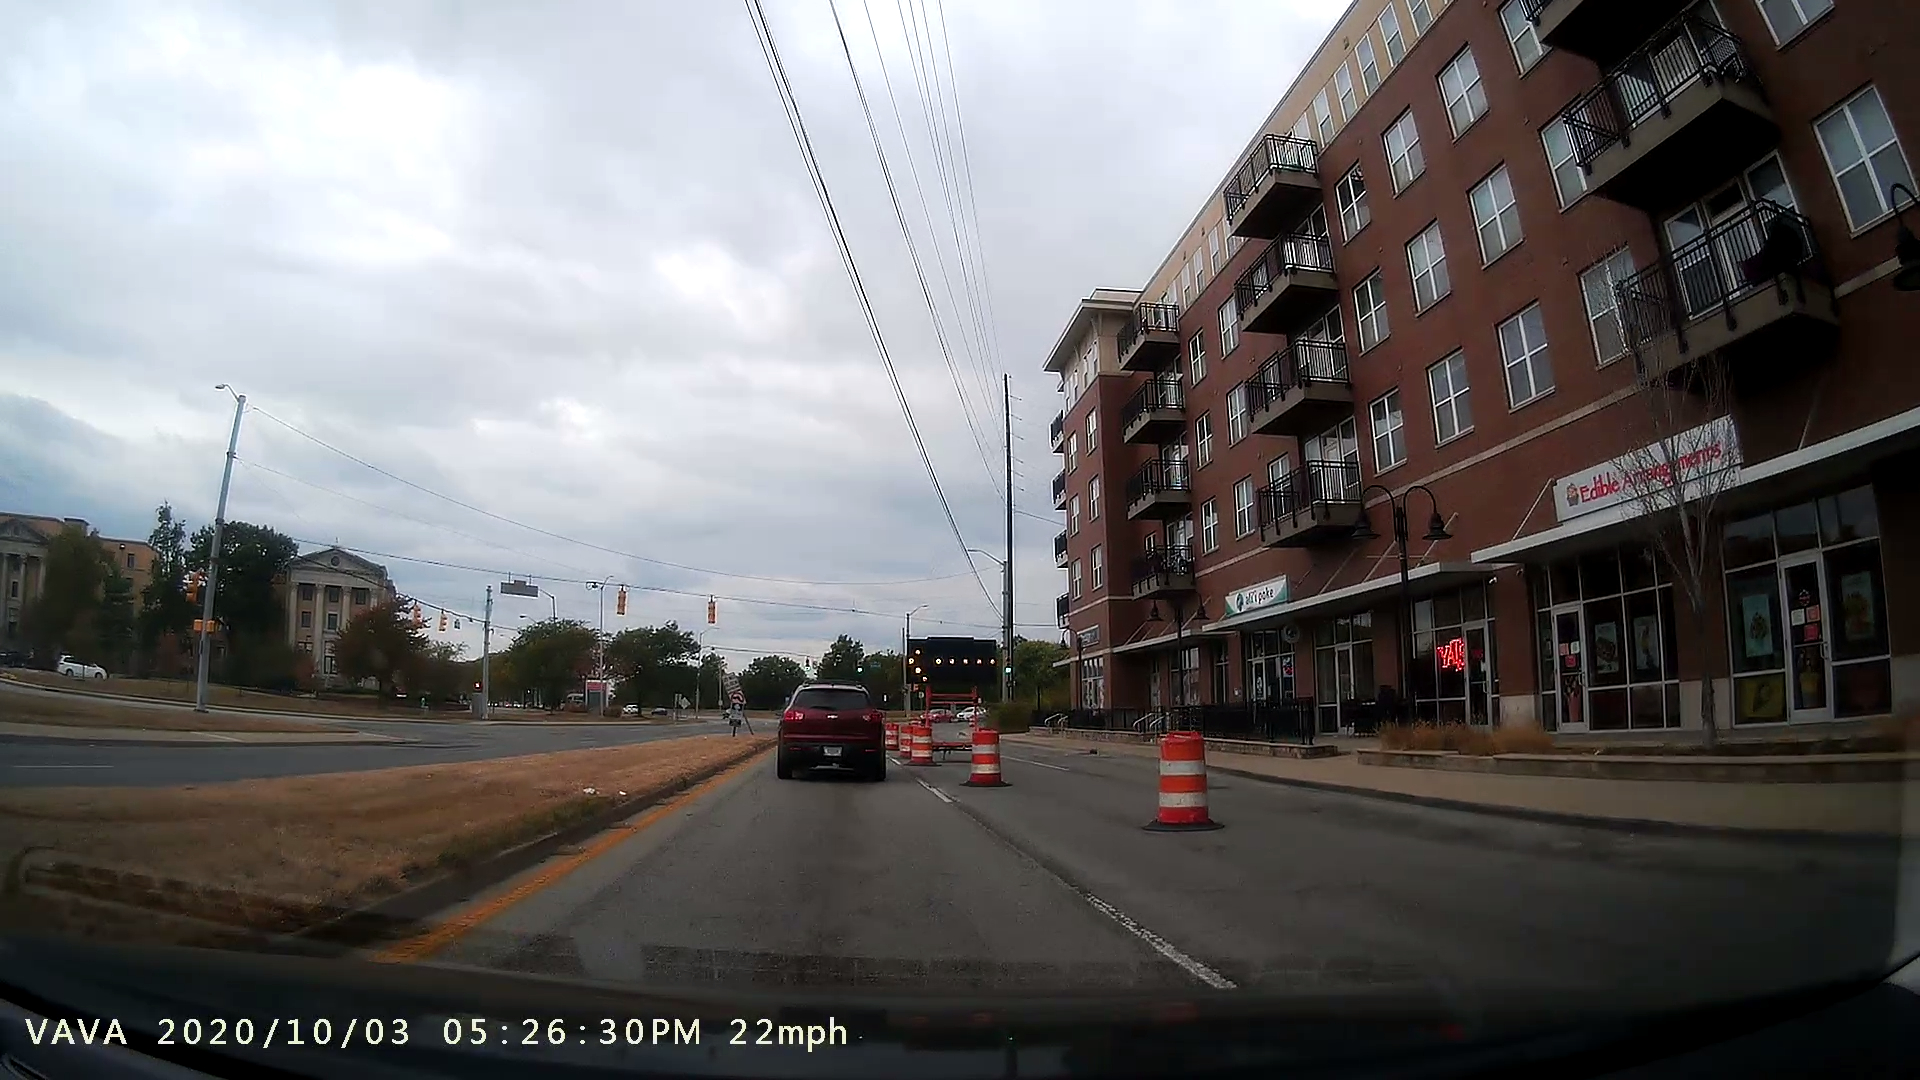const_barrel: (1112, 727, 1257, 840), (957, 719, 1015, 796)
